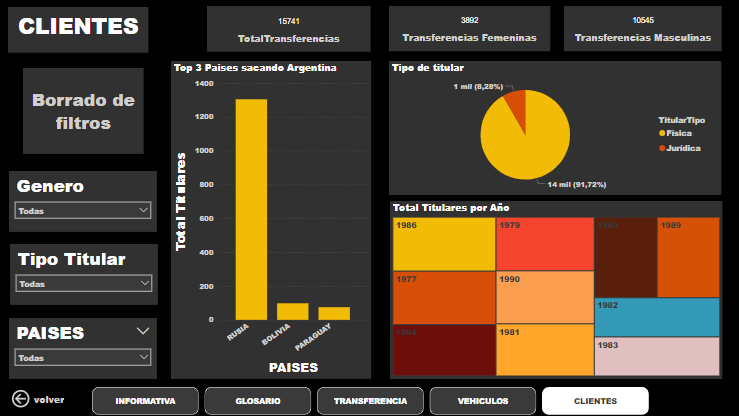

The dashboard page shown, as its layout file describes it:
{"tool":"powerbi","page":{"name":"CLIENTES","canvas":[1280,720],"ordinal":4},"visuals":[{"type":"textbox","box":[13.9,15.4,241.8,78.6],"z":0},{"type":"slicer","fields":{"Values":["GENERO.Genero"]},"box":[16,298.2,254.5,104.7],"z":1000},{"type":"slicer","fields":{"Values":["PAIS.PAISES"]},"box":[15,551.7,255,105],"z":2000},{"type":"slicer","fields":{"Values":["TIPOTITULAR.TitularTipo"]},"box":[16.7,425,255,105],"z":3000},{"type":"card","fields":{"Values":["Z_Medidas.TotalTransferencias"]},"box":[357.1,13,282.2,79.2],"z":4000},{"type":"card","fields":{"Values":["Z_Medidas.Transferencias Femeninas"]},"box":[671,13,277.9,77.8],"z":5000},{"type":"card","fields":{"Values":["Z_Medidas.Transferencias Masculinas"]},"box":[972,14.4,272.2,77.8],"z":6000},{"type":"pageNavigator","box":[158.6,671.4,960,48.6],"z":7000},{"type":"clusteredColumnChart","title":"Top 3 Paises sacando Argentina","fields":{"Y":["Z_Medidas.Total Titulares"],"Category":["PAIS.PAISES"]},"box":[295,108.3,345,548.3],"z":8000},{"type":"pieChart","title":"Tipo de titular","fields":{"Y":["Z_Medidas.Total Titulares"],"Category":["TIPOTITULAR.TitularTipo"]},"box":[671.4,108.6,572.9,231.4],"z":9000},{"type":"treemap","fields":{"Values":["Z_Medidas.Total Titulares"],"Group":["TITULAR.AÑO_NACIMIENTO.Variación.Jerarquía de fechas.Año"]},"box":[671.7,350,573.3,306.7],"z":10000},{"type":"actionButton","title":"Borrado de filtros","box":[39.3,120.7,208,148.4],"z":11000},{"type":"actionButton","box":[15.8,671,99.4,40.3],"z":12000}]}

Visuals, with their boxes in screenshot pixels (x1, y1, x2, y2), scaled from the page's 1280x720 canvas onto the 739x416 screenshot:
textbox: left=8, top=9, right=148, bottom=54
slicer - GENERO.Genero: left=9, top=172, right=156, bottom=233
slicer - PAIS.PAISES: left=9, top=319, right=156, bottom=379
slicer - TIPOTITULAR.TitularTipo: left=10, top=246, right=157, bottom=306
card - Z_Medidas.TotalTransferencias: left=206, top=8, right=369, bottom=53
card - Z_Medidas.Transferencias Femeninas: left=387, top=8, right=548, bottom=52
card - Z_Medidas.Transferencias Masculinas: left=561, top=8, right=718, bottom=53
pageNavigator: left=92, top=388, right=646, bottom=415
"Top 3 Paises sacando Argentina" clusteredColumnChart: left=170, top=63, right=370, bottom=379
"Tipo de titular" pieChart: left=388, top=63, right=718, bottom=196
treemap - Z_Medidas.Total Titulares x TITULAR.AÑO_NACIMIENTO.Variación.Jerarquía de fechas.Año: left=388, top=202, right=719, bottom=379
"Borrado de filtros" actionButton: left=23, top=70, right=143, bottom=155
actionButton: left=9, top=388, right=67, bottom=411
